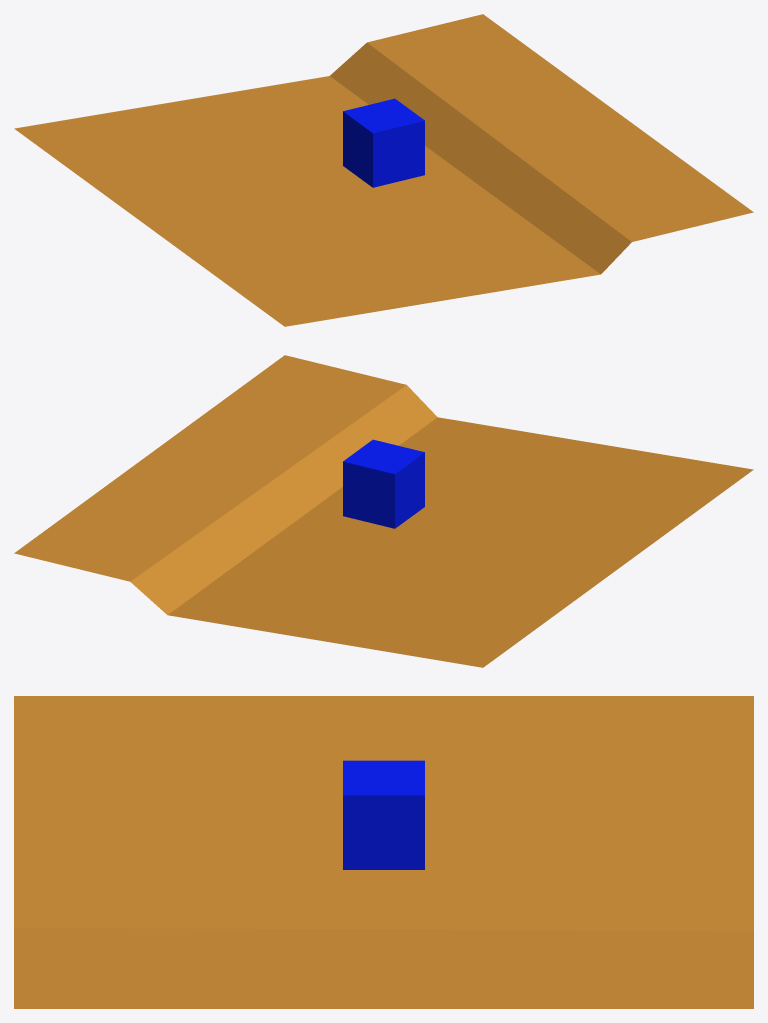
3 views of the same model, one above another, from view 1: azimuth 30°, elevation 25°; view 2: azimuth 150°, elevation 25°; view 3: azimuth 270°, elevation 25° (orthographic). The views are drawn at different scales.
Visible parts, largest first — view 1: plane, cube; view 2: plane, cube; view 3: plane, cube.
Boxes of the visible parts, left/top/right/bottom form: plane: left=14, top=14, right=753, bottom=326; cube: left=343, top=98, right=424, bottom=187; plane: left=14, top=355, right=753, bottom=667; cube: left=343, top=439, right=424, bottom=528; plane: left=14, top=696, right=753, bottom=1008; cube: left=343, top=760, right=424, bottom=869.
Bounding box in the file's own units: 1.12 × 0.1819 × 1.12.
Materials: 2 (2 with a texture image).
